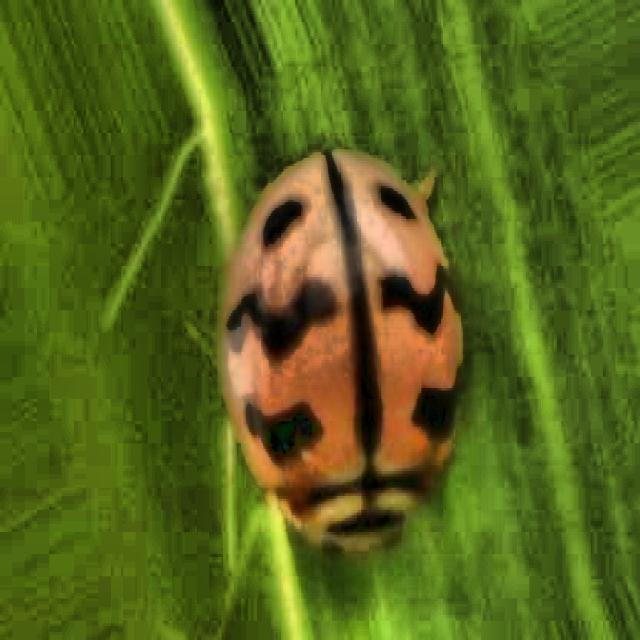Asian-Lady-beetle: (172, 131, 514, 615)
